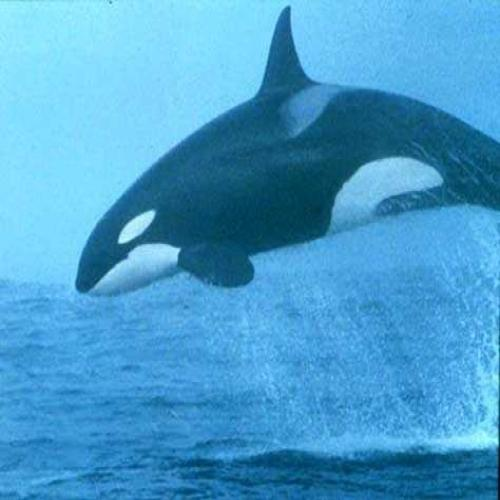killer_whale-endangered: (60, 41, 500, 302)
